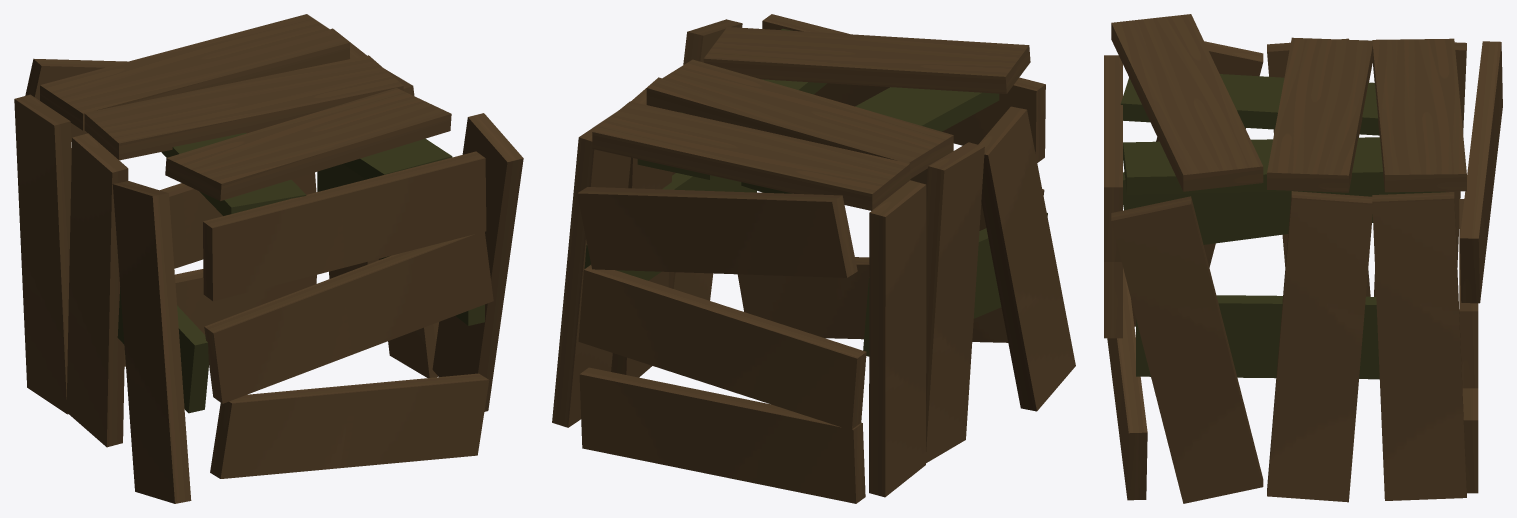
Rendered from wooden_boards.glb.
3 views of the same model, side by side, from view 1: azimuth 30°, elevation 25°; view 2: azimuth 150°, elevation 25°; view 3: azimuth 270°, elevation 25° (orthographic).
Parts seen in each view (by area): view 1: Cube.009; view 2: Cube.009; view 3: Cube.009.
Boxes of the visible parts, left/top/right/bottom form: Cube.009: left=14, top=14, right=523, bottom=503; Cube.009: left=552, top=14, right=1075, bottom=503; Cube.009: left=1104, top=14, right=1502, bottom=503.
Size of the model in its own units: 2.56 by 2.4 by 2.49.
2 materials, 1 textured.
